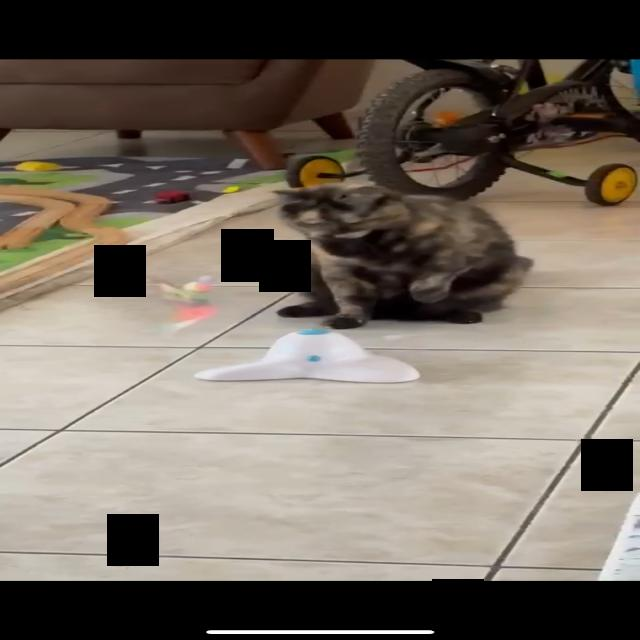authorized: (270, 183, 534, 329)
